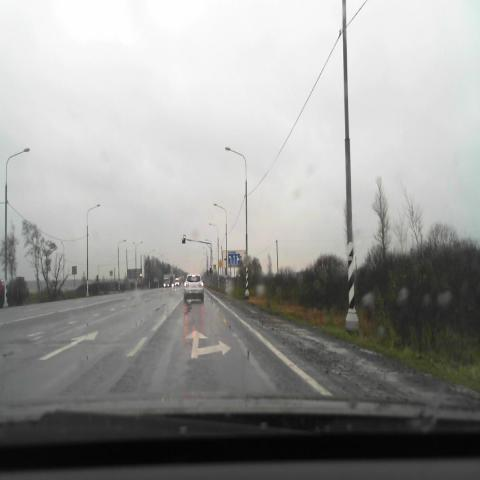5_15_1: (228, 253, 240, 265)
